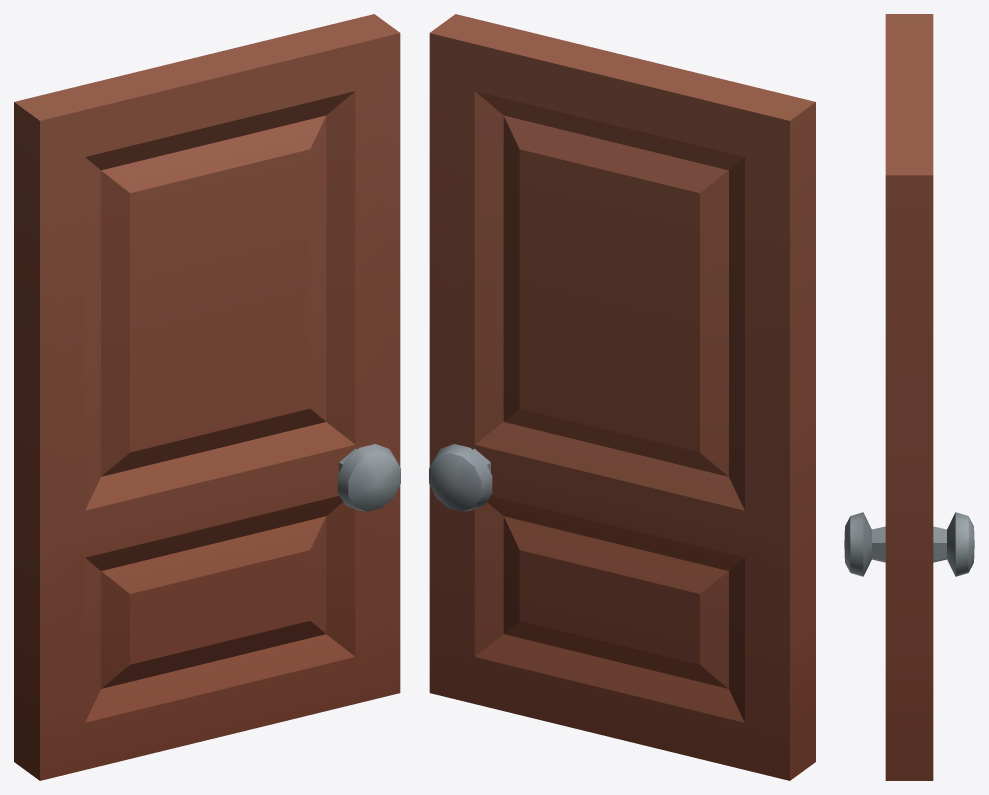
The model's file is door.glb.
The picture shows the model from 3 angles, left to right: view 1: azimuth 30°, elevation 25°; view 2: azimuth 150°, elevation 25°; view 3: azimuth 270°, elevation 25°; orthographic projection. The views are drawn at different scales.
Visible parts, largest first — view 1: Door_A; view 2: Door_A; view 3: Door_A.
Boxes of the visible parts, x1,y1,x2,y2 form: Door_A: (14,14,400,780); Door_A: (429,14,815,780); Door_A: (844,14,974,780).
Size of the model in its own units: 1.6 by 2.8 by 0.5459.
1 material, 1 textured.
